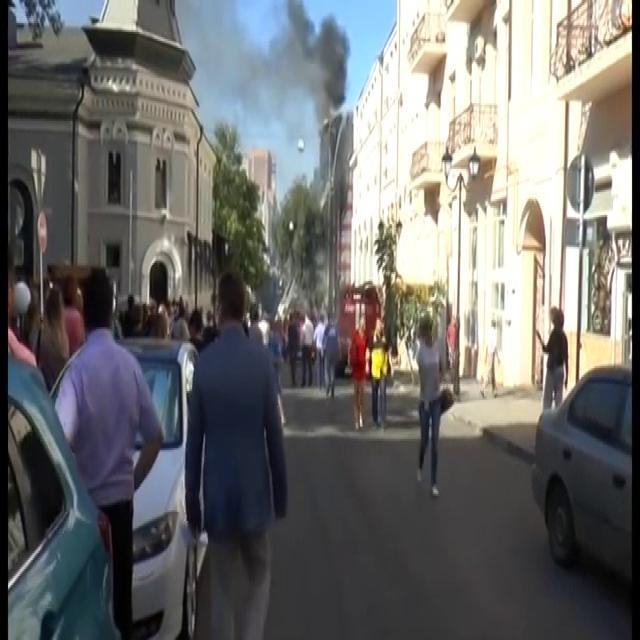Smoke: (188, 0, 352, 116)
